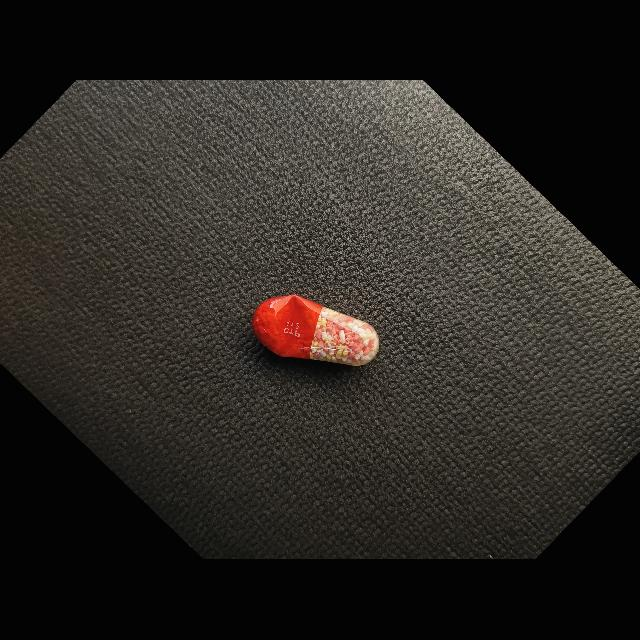Defective Capsule: (252, 295, 379, 366)
